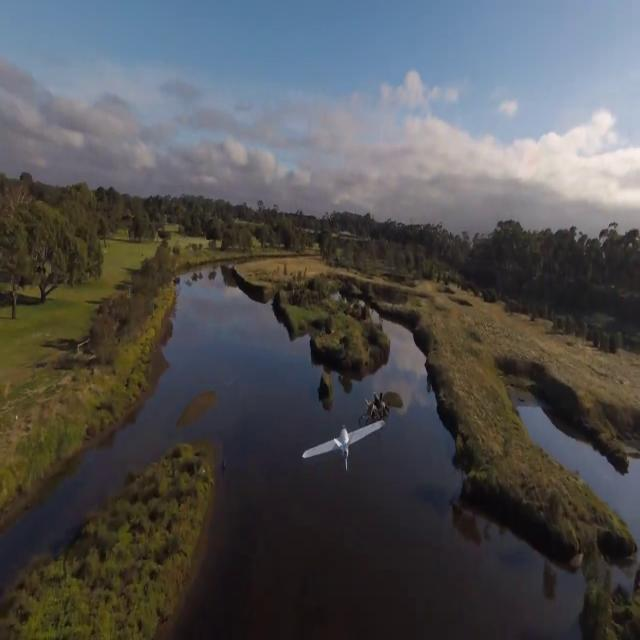iha: (334, 424, 352, 472)
